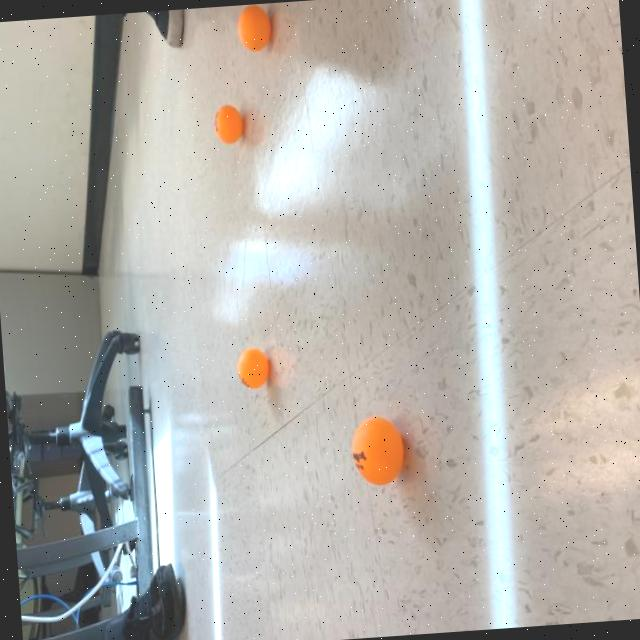ping-pong-ball: (348, 412, 406, 491), (232, 4, 273, 59), (232, 344, 270, 396), (208, 100, 246, 146)
